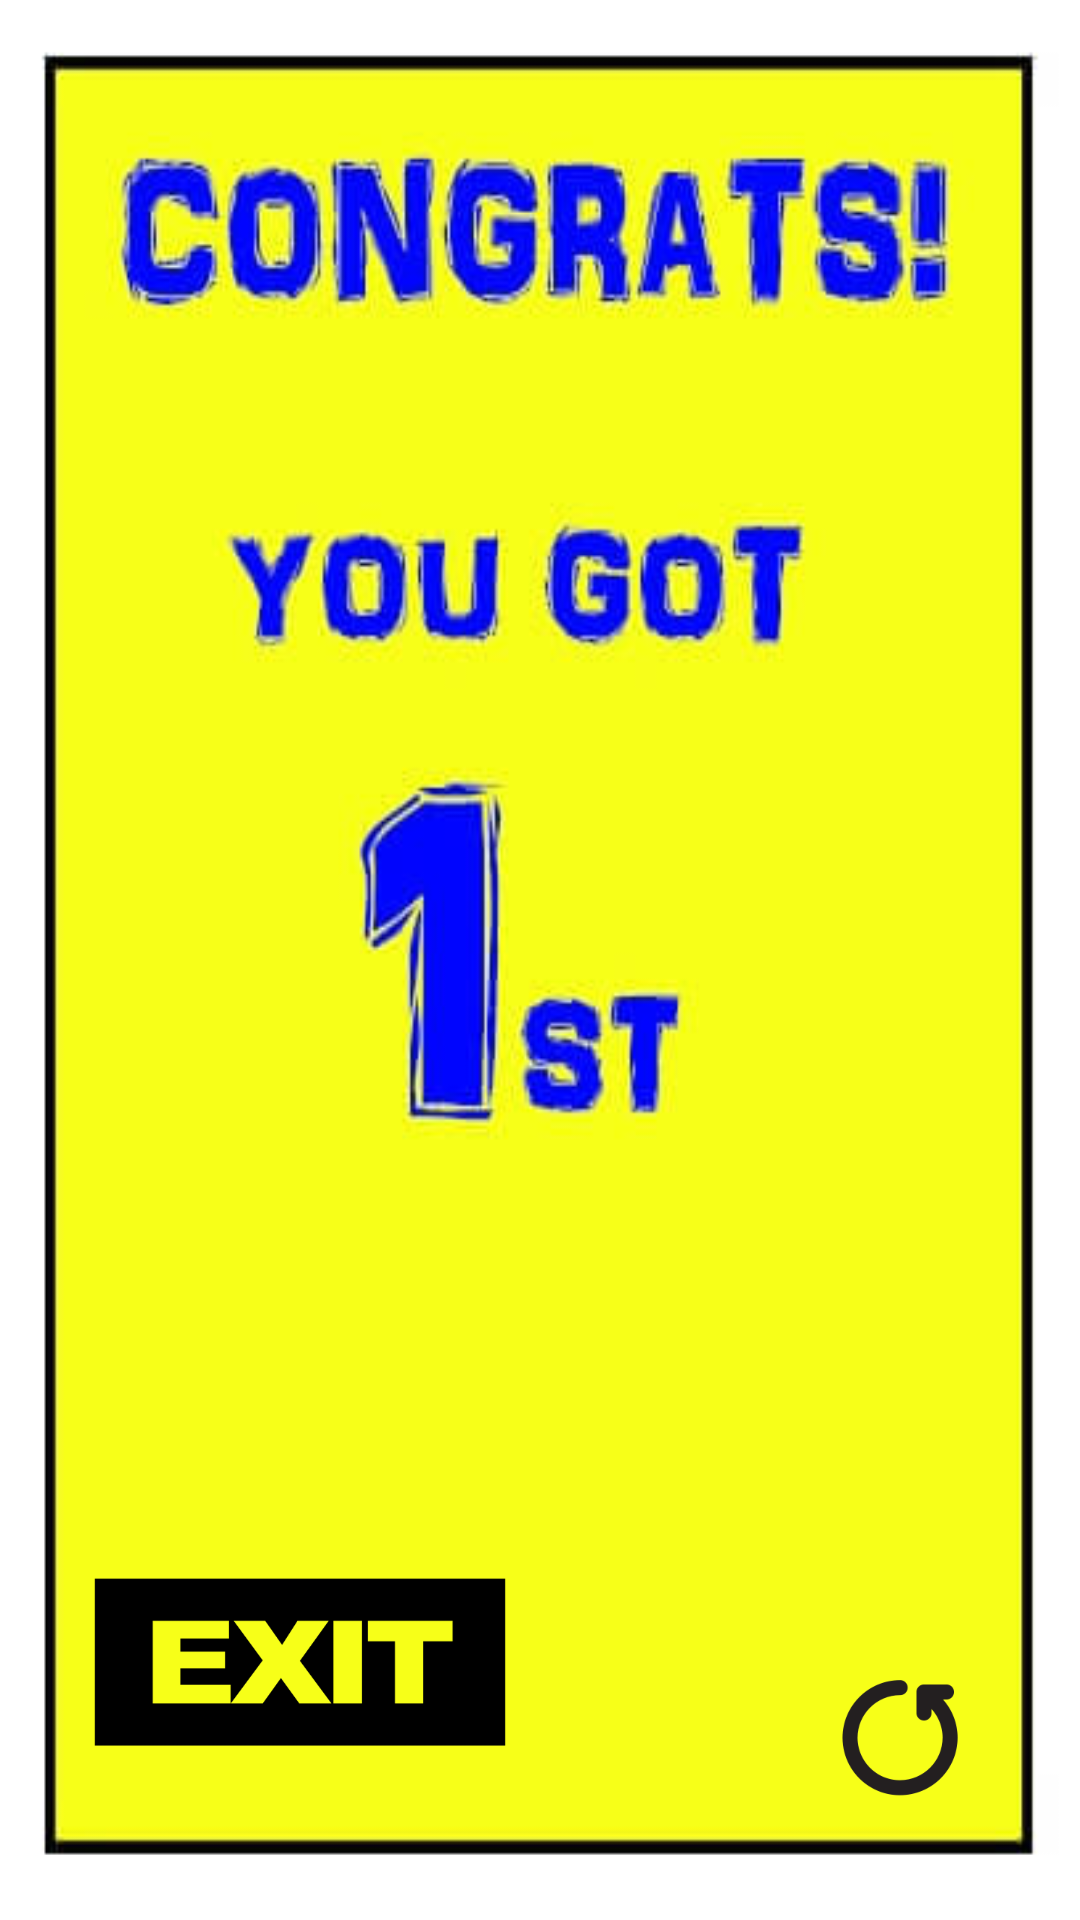

Screen size 1080 x 1920. Icon name, then its center in pixels as point (x, y):
again: point (900, 1738)
